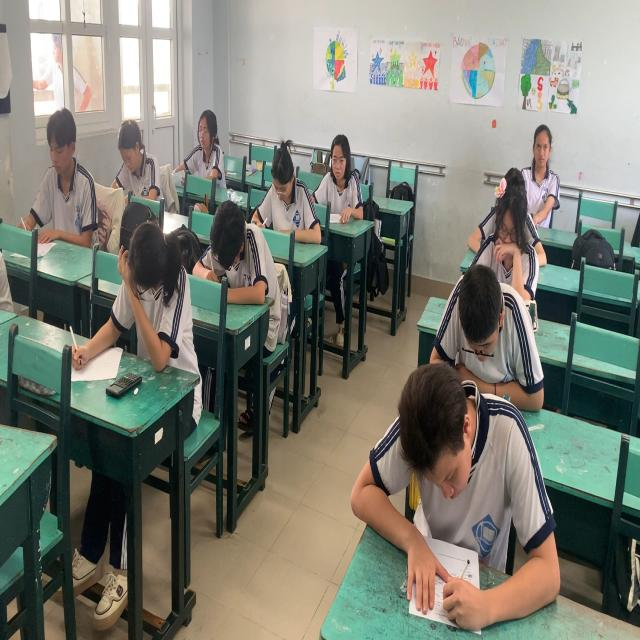not_cheating: (398, 358, 494, 534), (111, 197, 175, 370), (31, 94, 88, 240), (204, 200, 266, 321), (450, 265, 500, 374), (270, 138, 317, 251), (316, 119, 360, 236), (108, 97, 153, 204), (523, 110, 565, 222), (491, 175, 533, 272), (186, 94, 212, 176)
